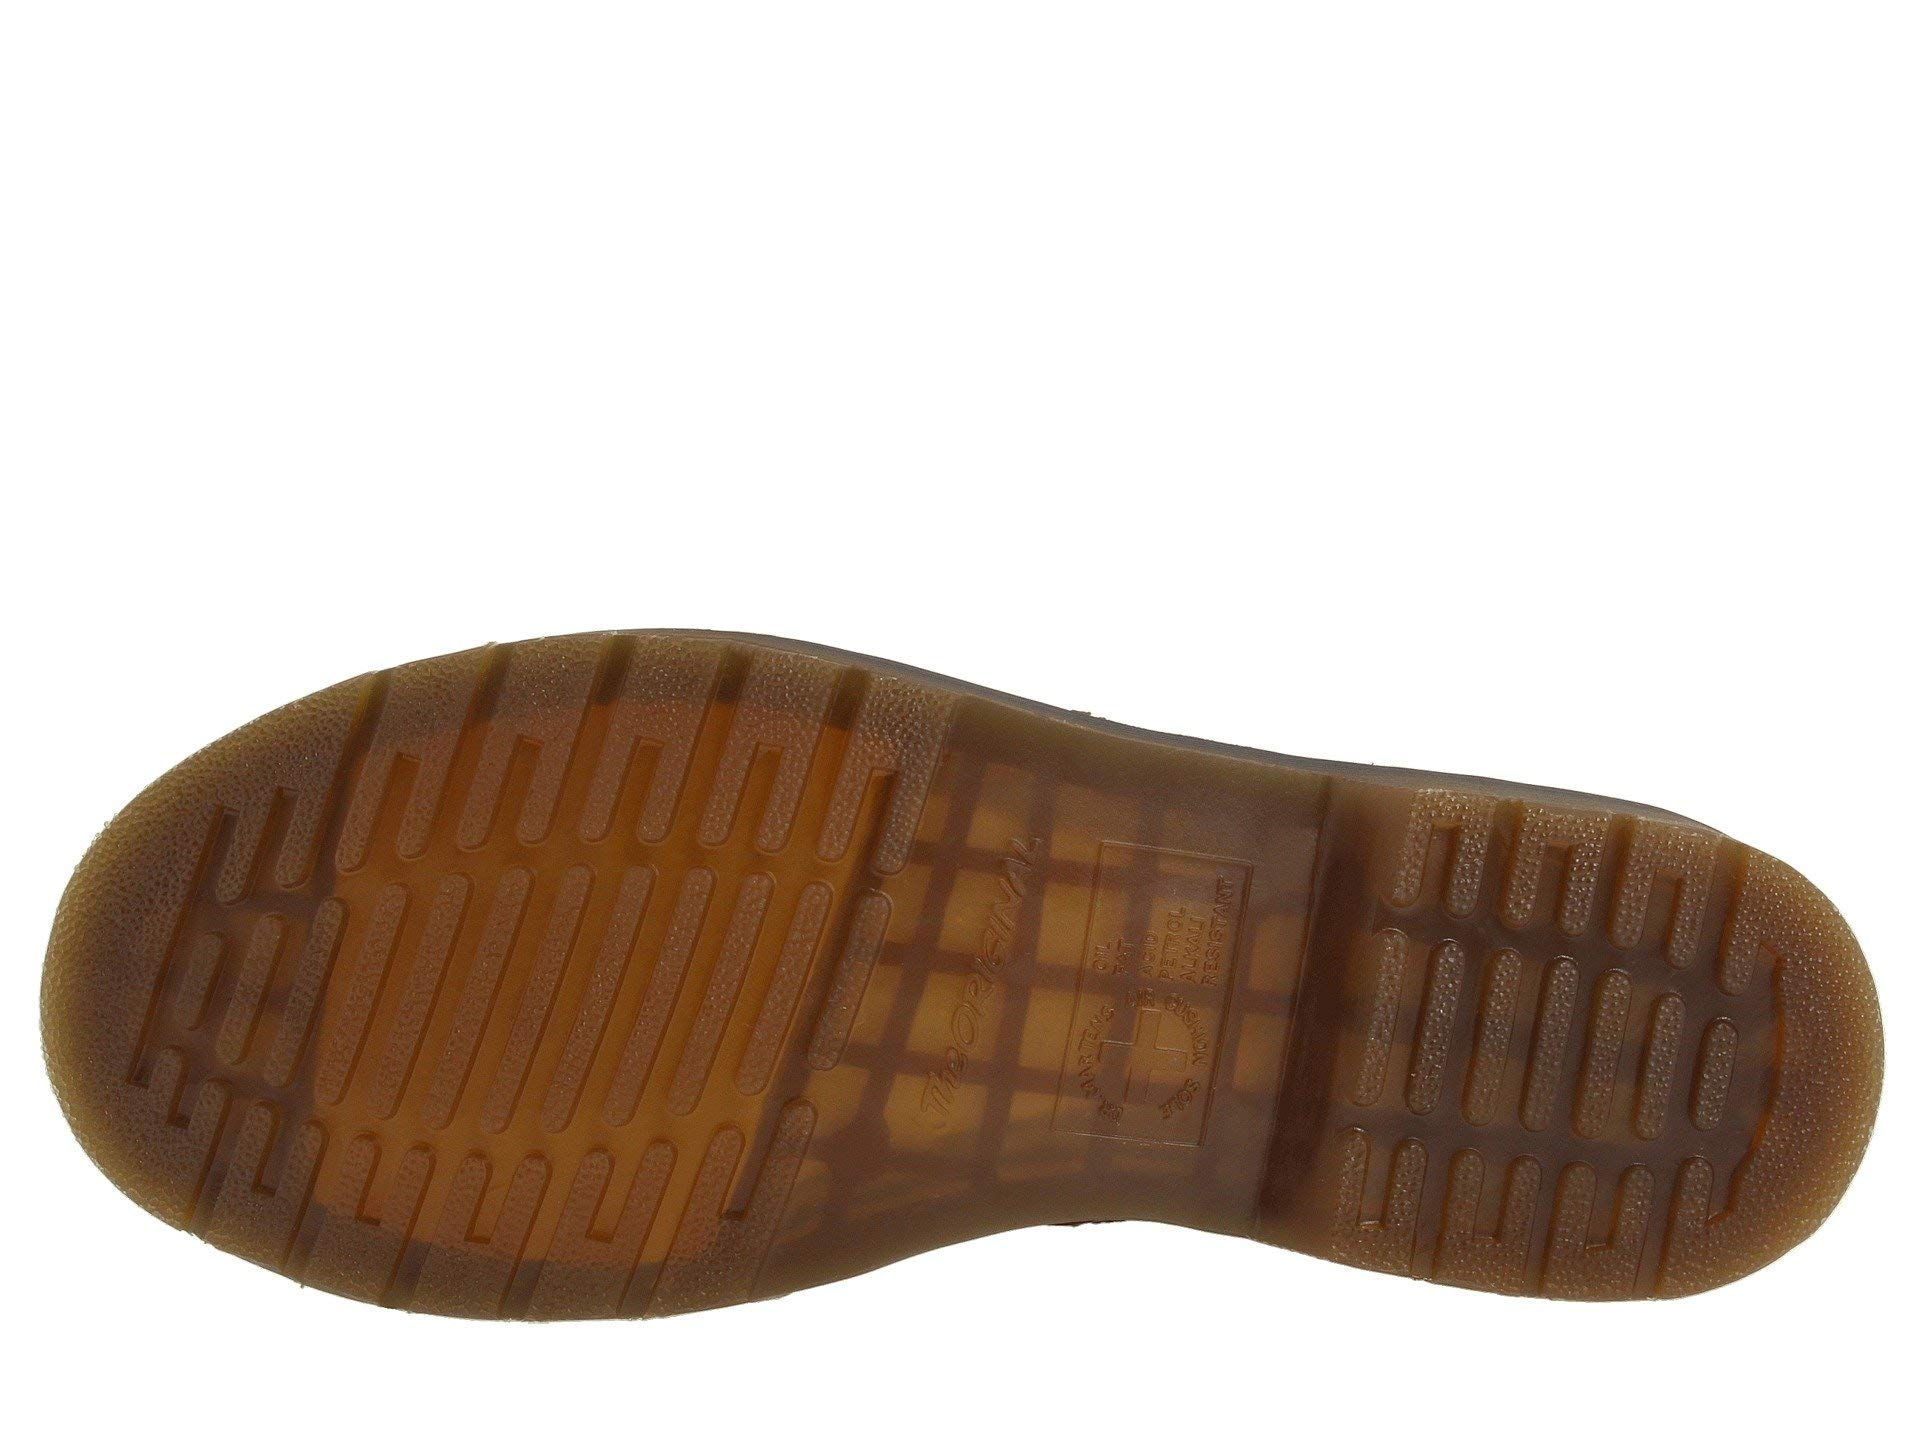circle: (866, 809, 1265, 1174)
line: (160, 864, 853, 1141), (1330, 905, 1776, 1163)
other: (866, 809, 1265, 1174), (370, 647, 934, 868)
quad: (866, 809, 1265, 1174)
star: (866, 809, 1265, 1174)
text: (866, 809, 1265, 1174)
